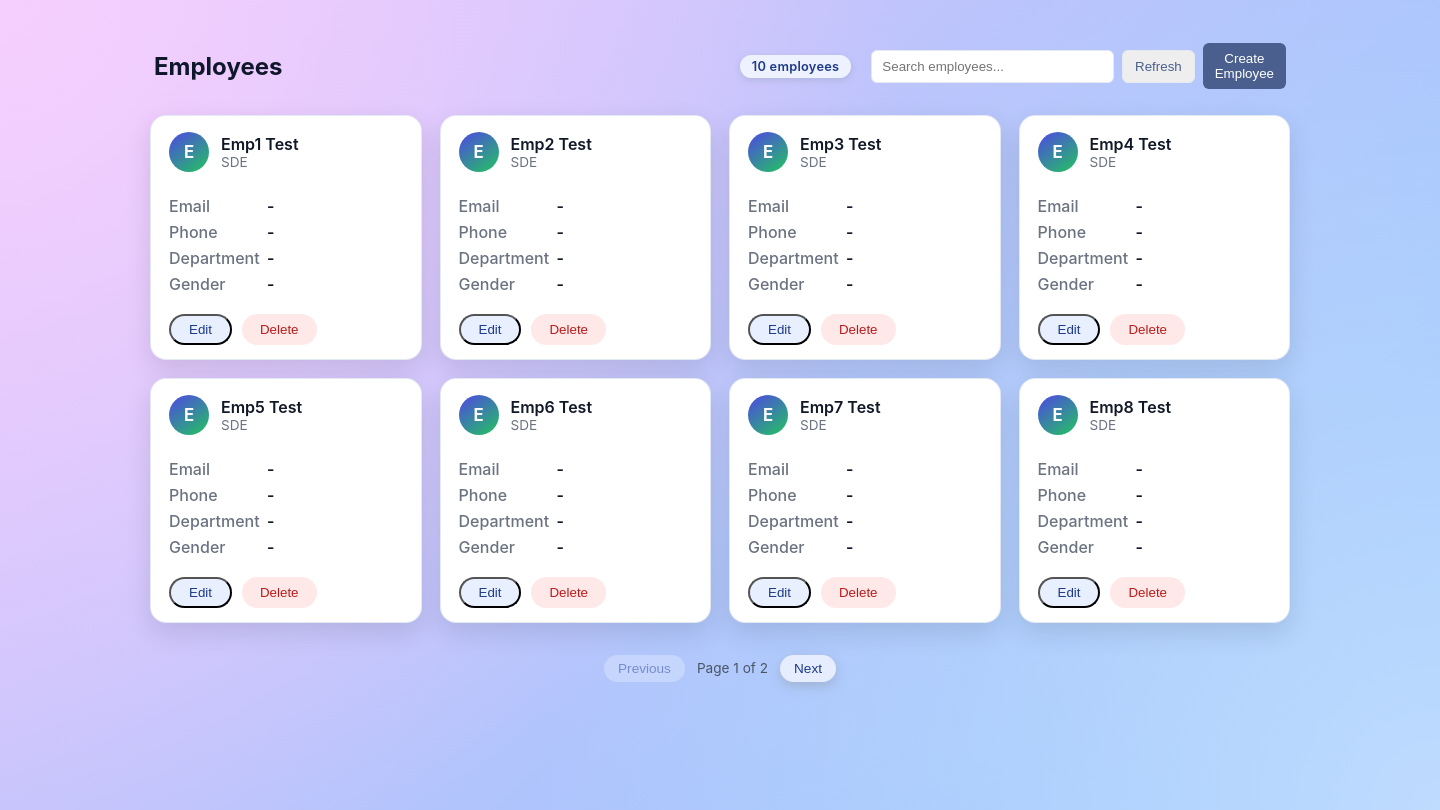
Scenario: EmployeeList › supports pagination when > pageSize
Expected: the text "Emp1 Test" is shown, [221,134,298,154]
Expected: the text "Page 1 of 2" is shown, [697,660,768,676]
Click the button "Next": (808, 668) [780,655,836,682]
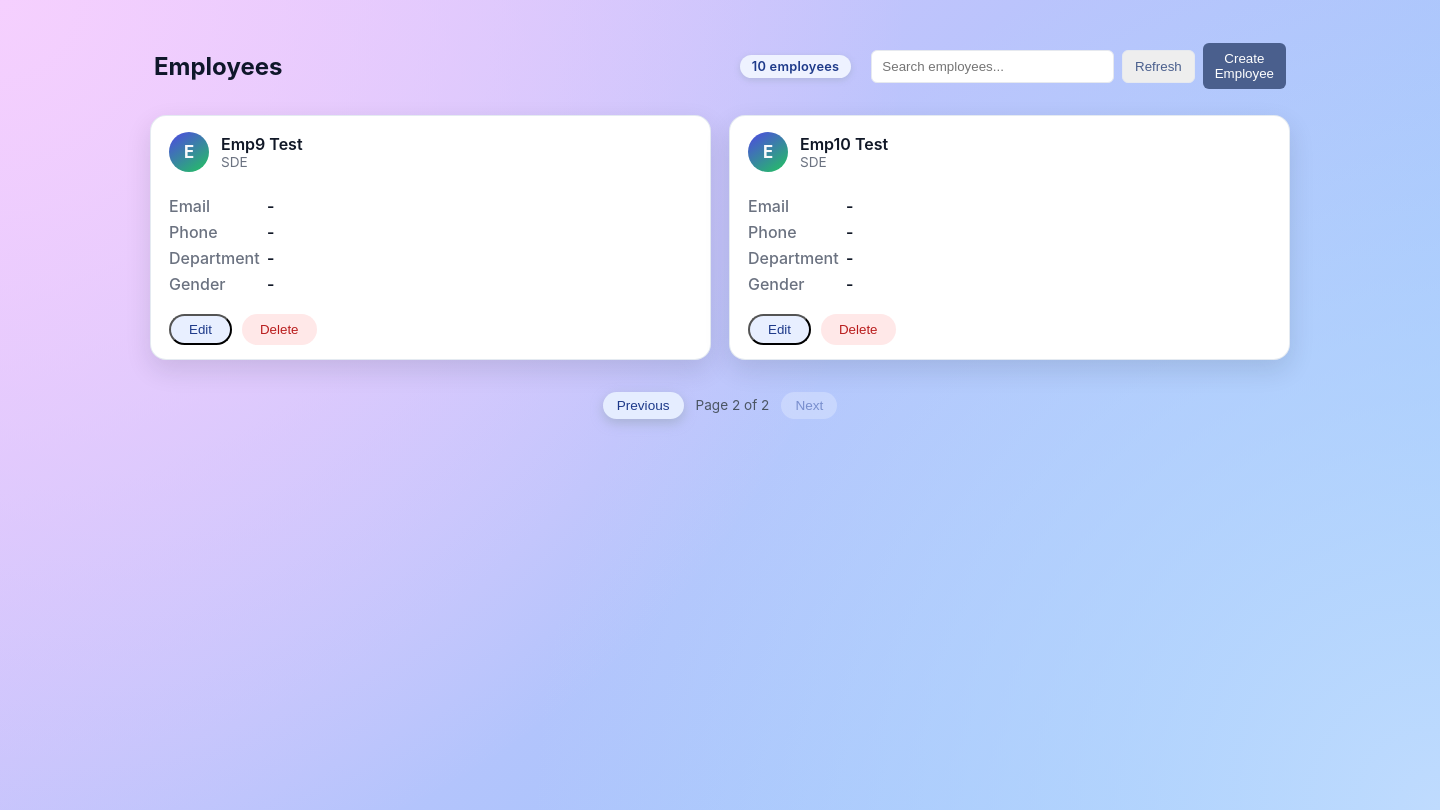
Result: the text "Page 2 of 2" is shown at [696,397,769,413]
